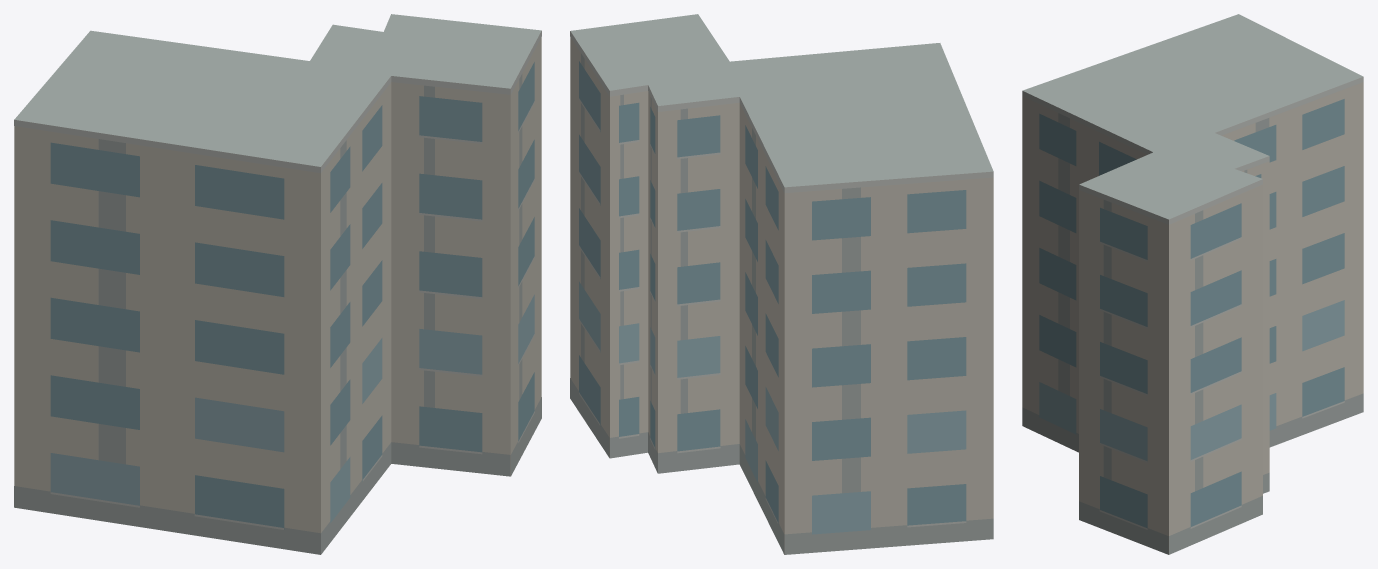
File: survey-upis-32694154.glb
The picture shows the model from 3 angles, left to right: view 1: azimuth 30°, elevation 25°; view 2: azimuth 150°, elevation 25°; view 3: azimuth 270°, elevation 25°; orthographic projection. The views are drawn at different scales.
Visible parts, largest first — view 1: survey-upis-32694154.tmp; view 2: survey-upis-32694154.tmp; view 3: survey-upis-32694154.tmp.
Boxes of the visible parts, x1,y1,x2,y2 form: survey-upis-32694154.tmp: [14, 14, 541, 554]; survey-upis-32694154.tmp: [570, 14, 993, 554]; survey-upis-32694154.tmp: [1022, 14, 1363, 554].
Bounding box in the file's own units: 20.06 × 15.25 × 14.08.
